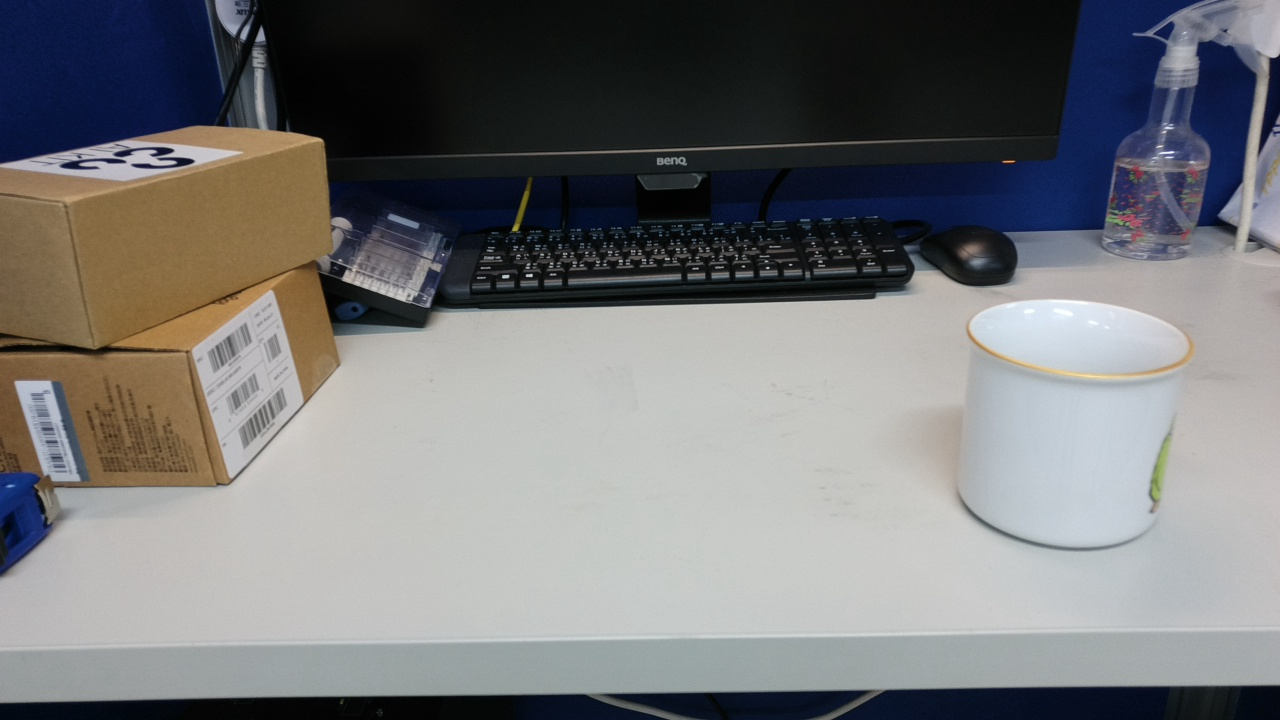circle: (664, 501, 836, 644)
